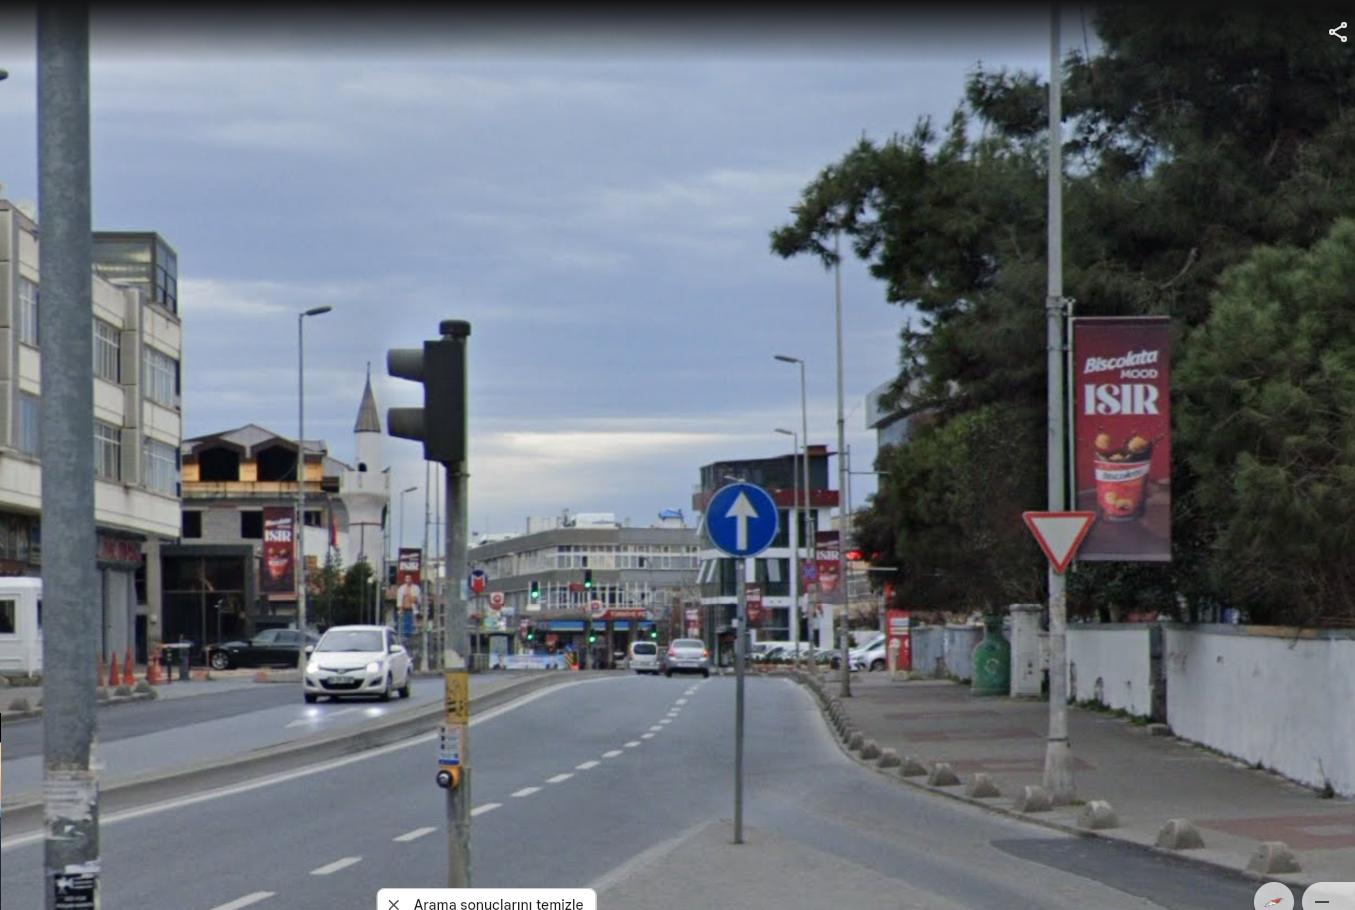forward: (710, 486, 774, 557)
